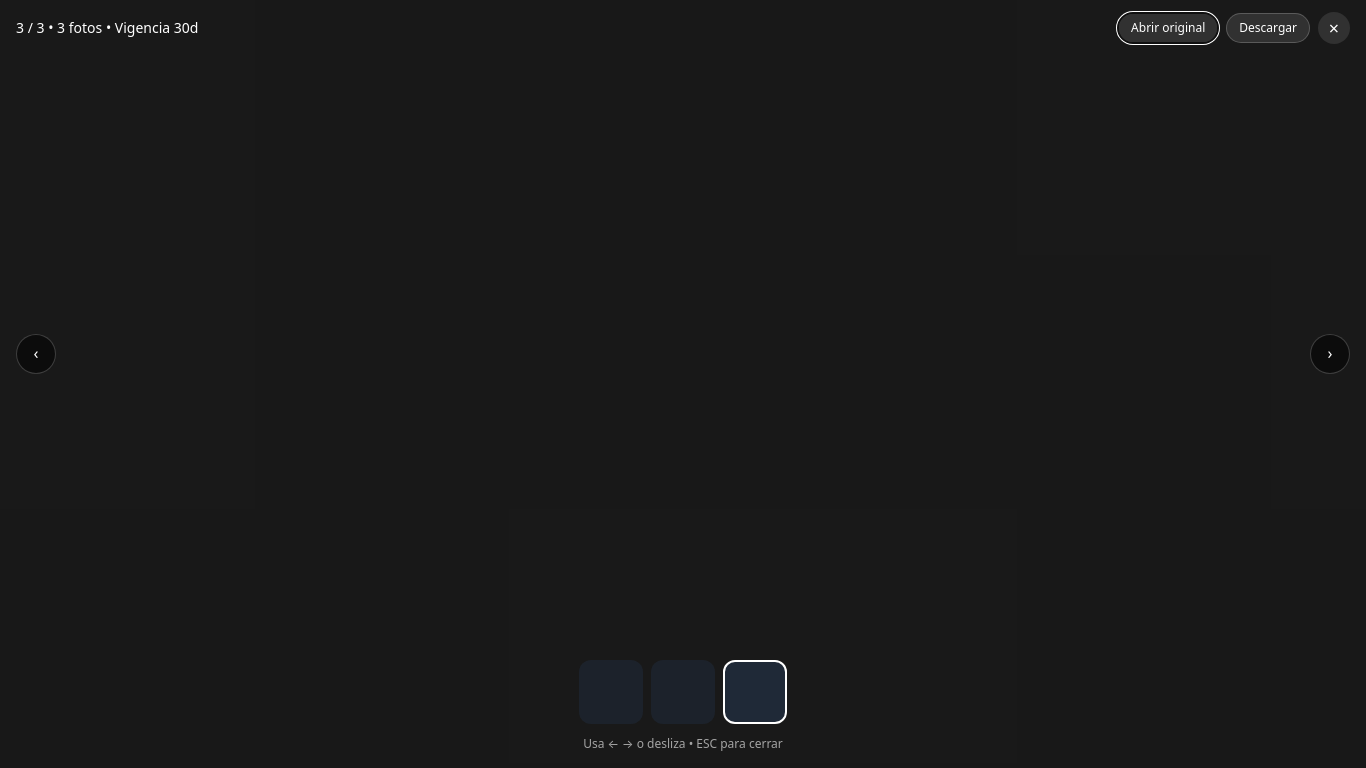
Test: VisorFotos (lightbox) › Siguiente avanza y envuelve de la última a la primera
What coordinates should you click on to do the following:
click the button named "Siguiente"
I would click on:
 (1330, 354)
Its box is [1310,334,1350,374].
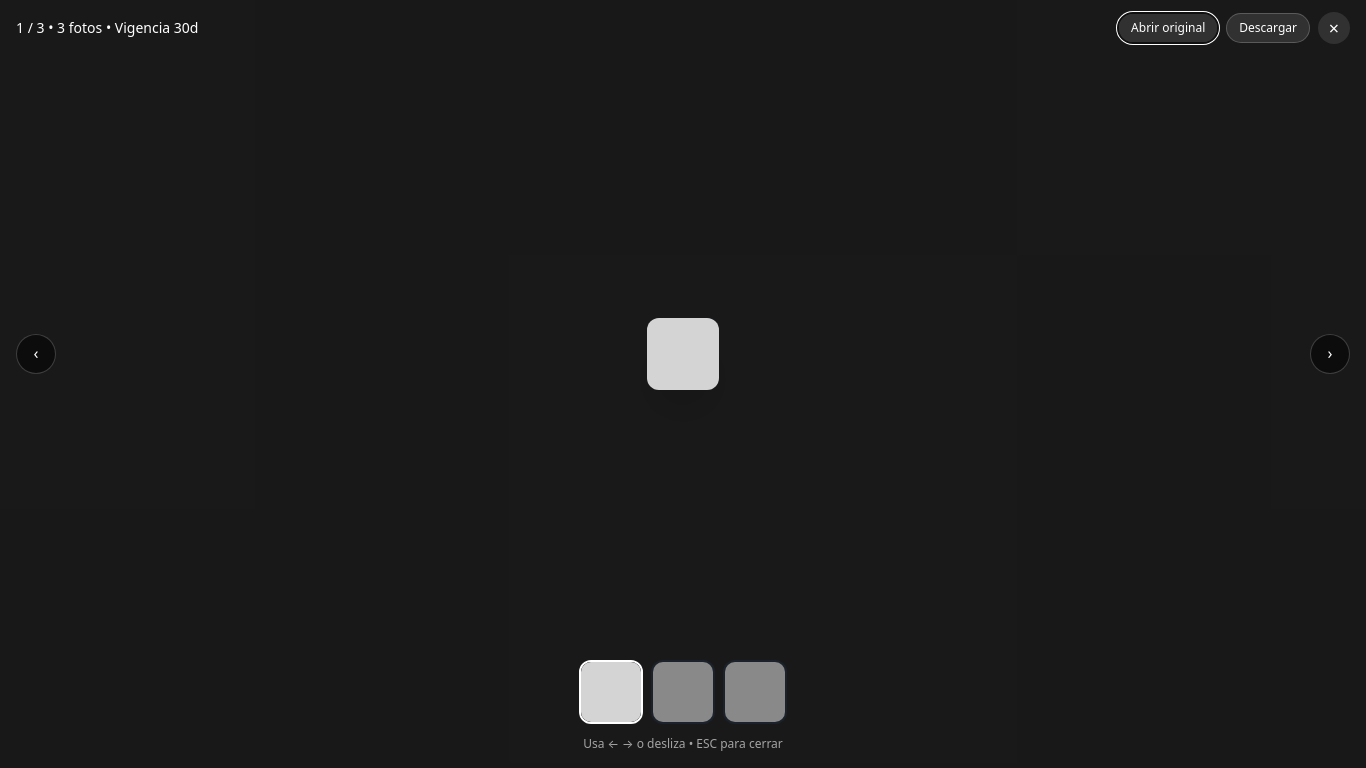
expect the text "1 / 3 • 3 fotos • Vigencia 30d" is shown: met, box [16,18,198,38]
